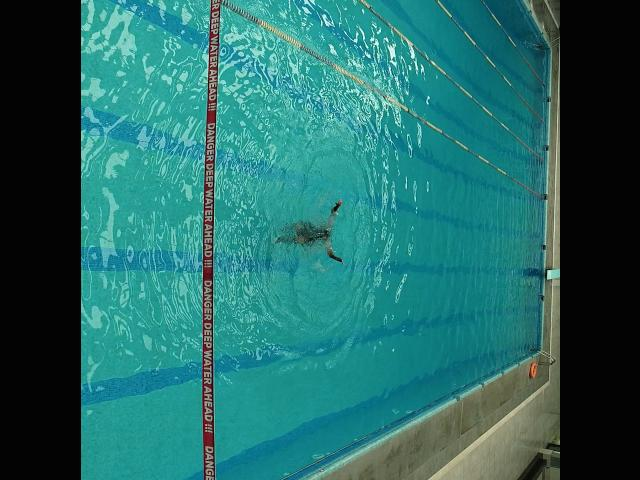drowning: (272, 199, 344, 265)
